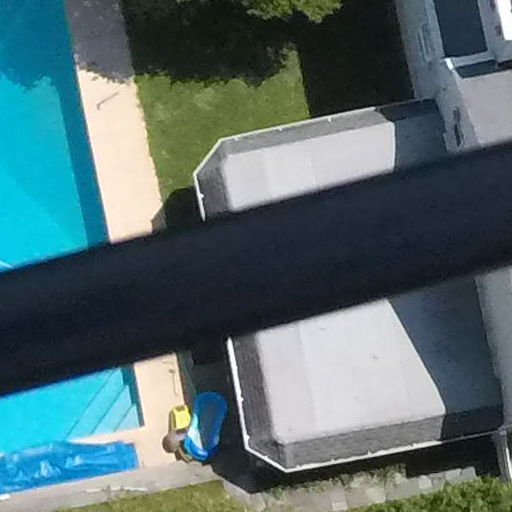container: (163, 402, 195, 430)
pool: (5, 3, 171, 230)
tarp: (1, 436, 141, 495)
toy: (181, 387, 229, 464)
